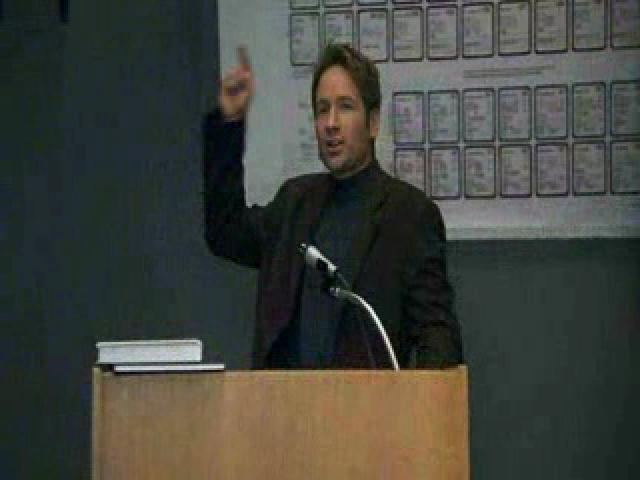T: (177, 30, 476, 381)
